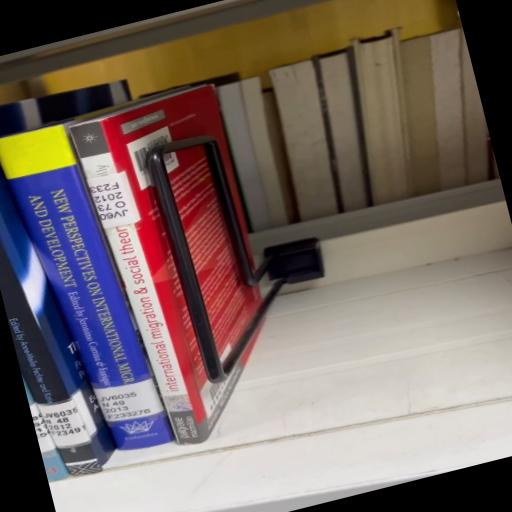reverse: (71, 86, 269, 446)
